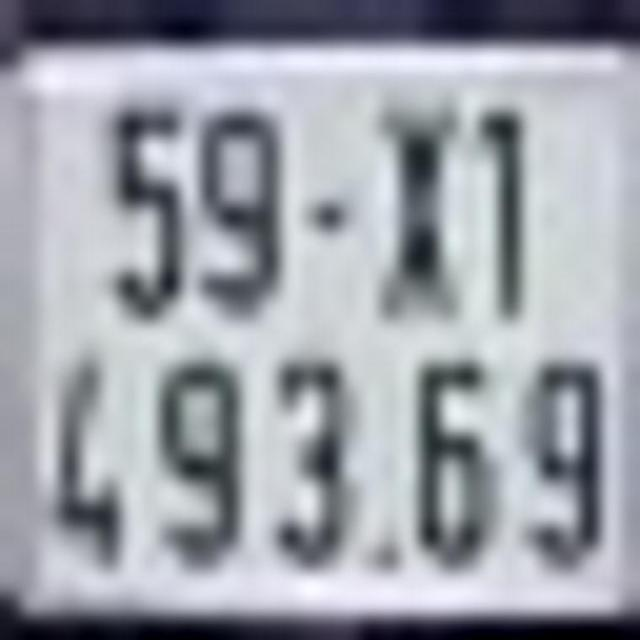1: (480, 102, 539, 324)
3: (268, 358, 352, 564)
4: (54, 354, 141, 580)
5: (103, 100, 193, 334)
6: (411, 359, 493, 572)
9: (152, 357, 254, 580), (200, 92, 283, 326), (523, 354, 606, 570)
X: (382, 103, 471, 320)
